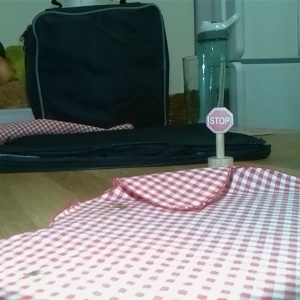stop sign: (204, 106, 236, 170)
